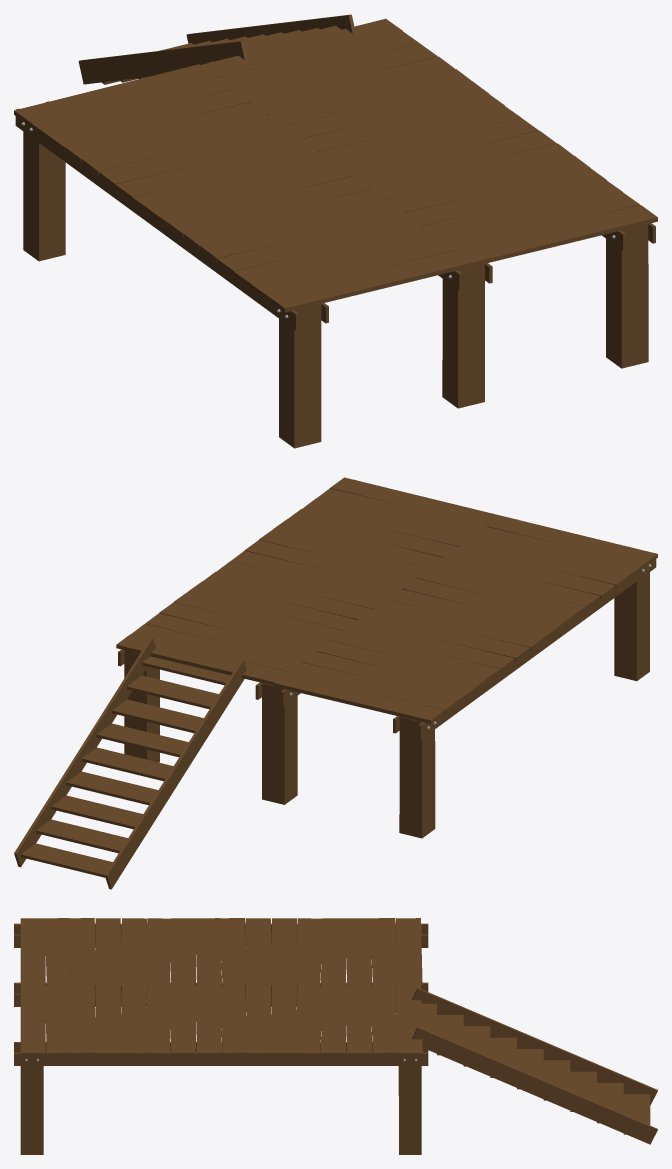
File: Wooden Platforms(1).glb
The picture shows the model from 3 angles, top to bottom: view 1: azimuth 30°, elevation 25°; view 2: azimuth 150°, elevation 25°; view 3: azimuth 270°, elevation 25°; orthographic projection. The views are drawn at different scales.
Parts seen in each view (by area): view 1: Root; view 2: Root; view 3: Root.
Part boxes in pixels (left/top/right/bottom): Root: left=14, top=14, right=657, bottom=448; Root: left=14, top=477, right=657, bottom=889; Root: left=14, top=918, right=657, bottom=1154.
Bounding box in the file's own units: 3.57 × 1.44 × 7.19.
